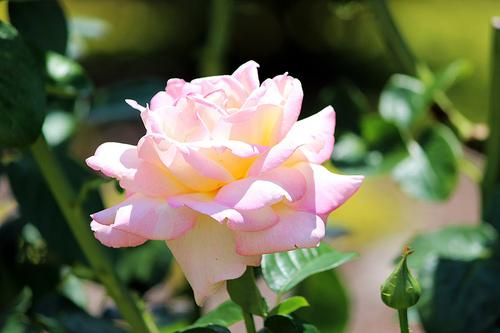Rose: (86, 59, 365, 293)
